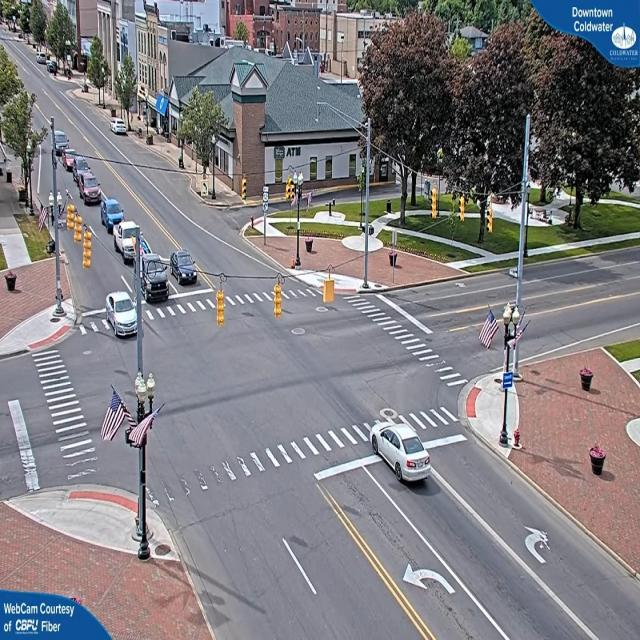car: (375, 426, 431, 487), (108, 289, 142, 338), (112, 218, 140, 263), (140, 262, 169, 303), (75, 162, 101, 207), (168, 251, 198, 287), (102, 200, 126, 228), (52, 130, 69, 156), (112, 120, 130, 138)
